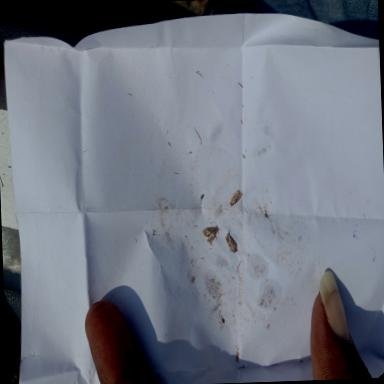pbw: (200, 219, 222, 244), (223, 226, 238, 252), (228, 186, 244, 207)
